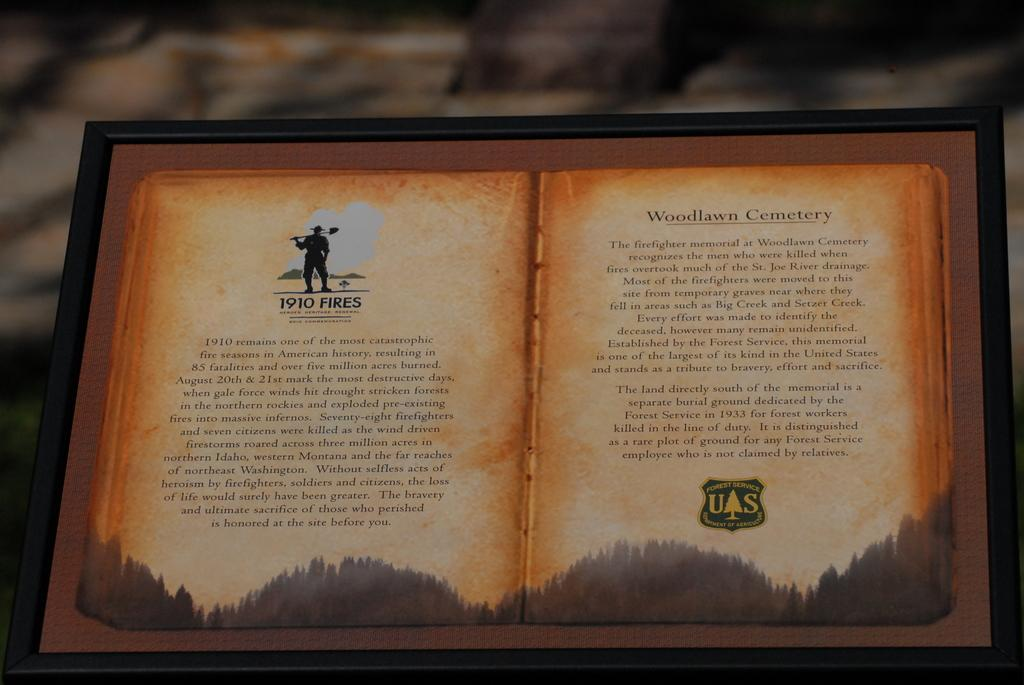book: (58, 119, 966, 659)
